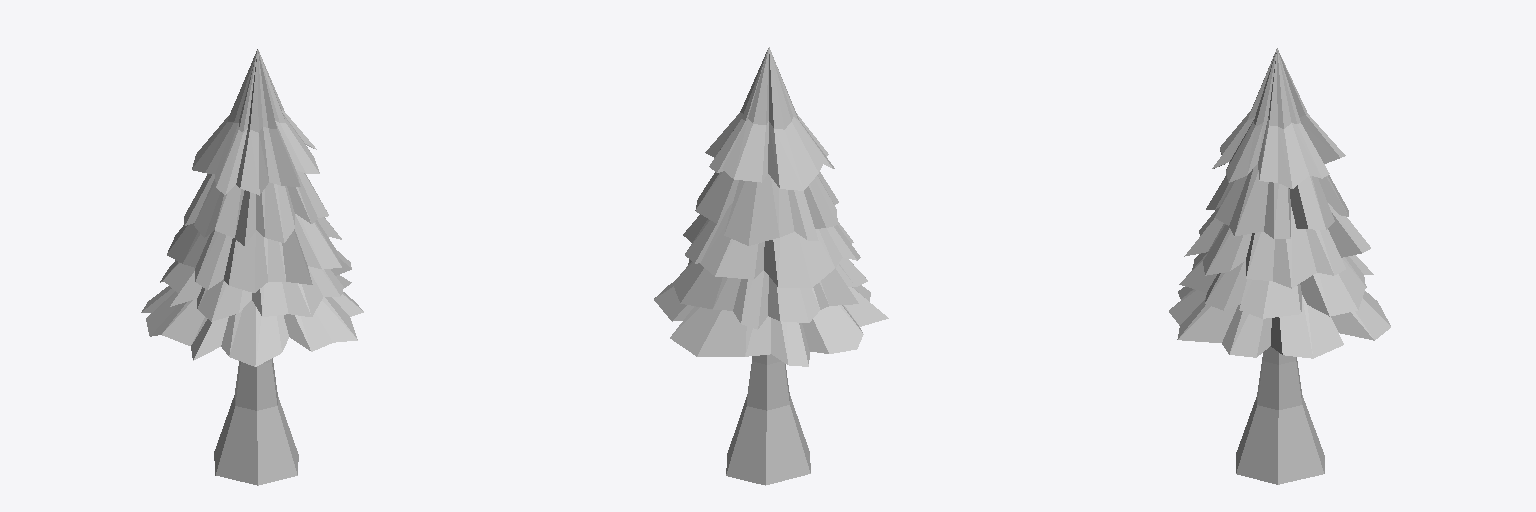
The model's file is Pino.obj.
3 renders of one model, left to right at view 1: azimuth 30°, elevation 25°; view 2: azimuth 150°, elevation 25°; view 3: azimuth 270°, elevation 25°, orthographic.
Visible parts, largest first — view 1: Pino; view 2: Pino; view 3: Pino.
Boxes of the visible parts, x1=… form: Pino: x1=141, y1=49, x2=363, y2=485; Pino: x1=654, y1=47, x2=888, y2=485; Pino: x1=1169, y1=48, x2=1390, y2=484.
Bounding box in the file's own units: 15.51 × 31.58 × 15.33.